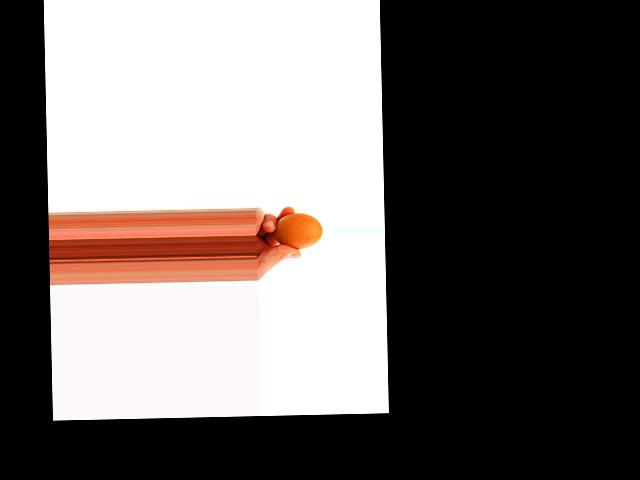egg: (274, 212, 322, 249)
